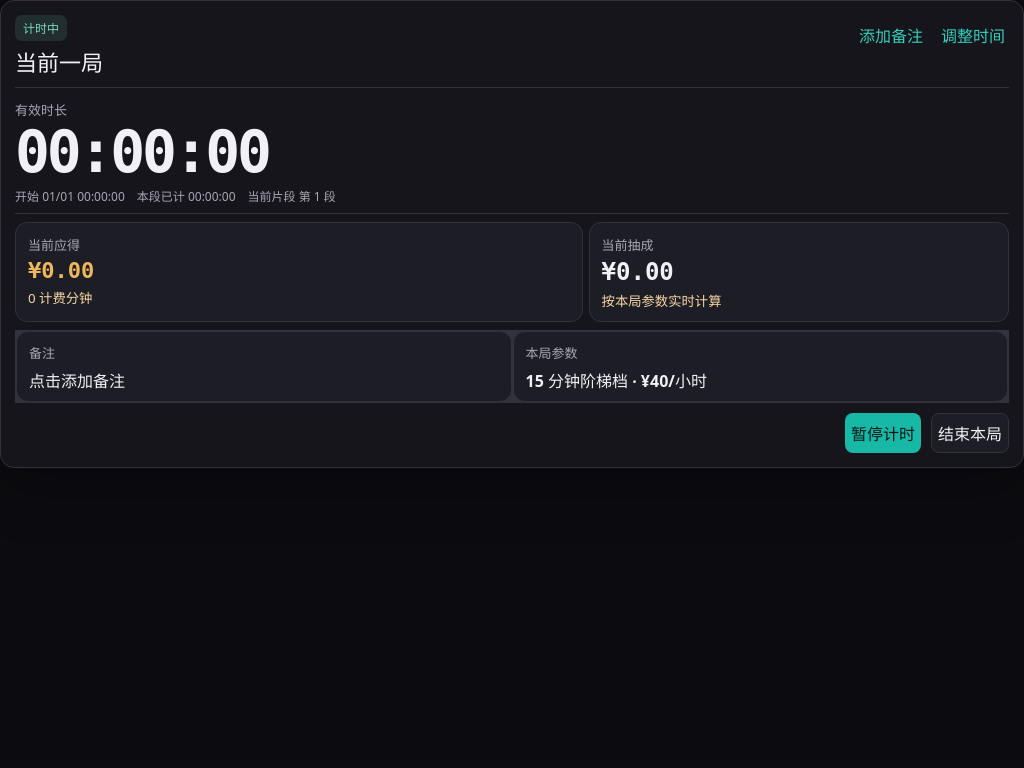
Test: TimerPage states › keeps the note draft open when saving fails
Click the button "添加备注" at (891, 35), box [855,15,927,55]
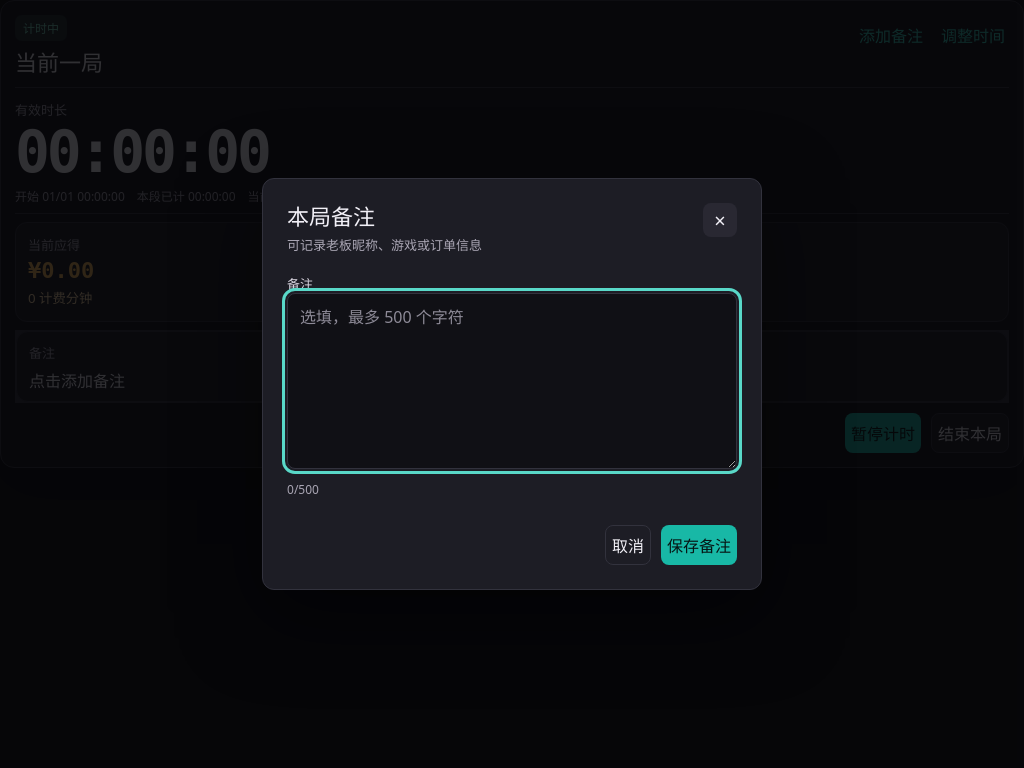
Type "失败后保留备注" into the text box labelled "备注" at (512, 381), box [287,293,737,469]
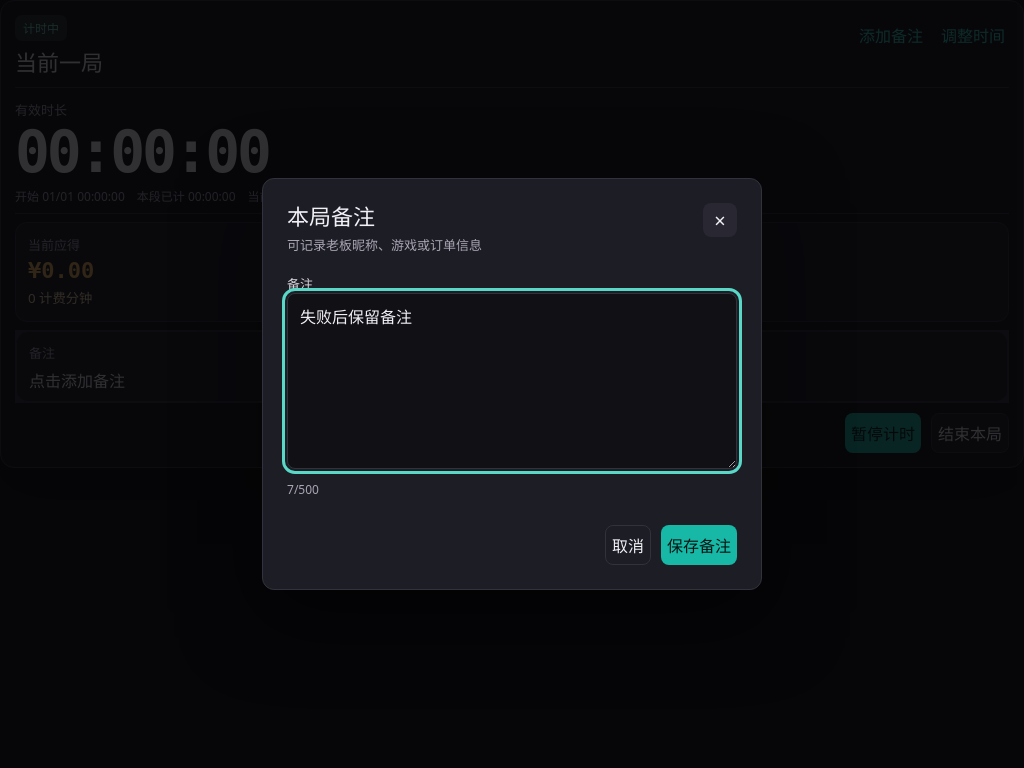
Click the button "保存备注" at (699, 545), box [661,525,737,565]
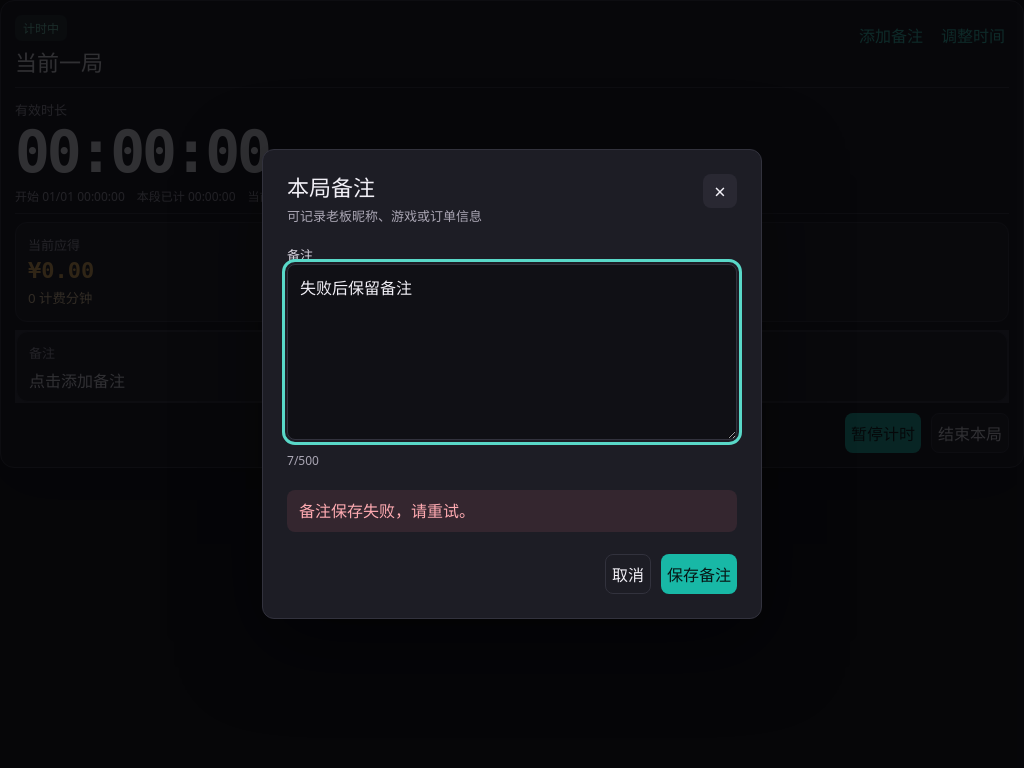
expect the dialog "本局备注" is shown: met, box [262,149,762,619]
expect the text "备注保存失败，请重试。" is shown: met, box [287,490,737,532]
